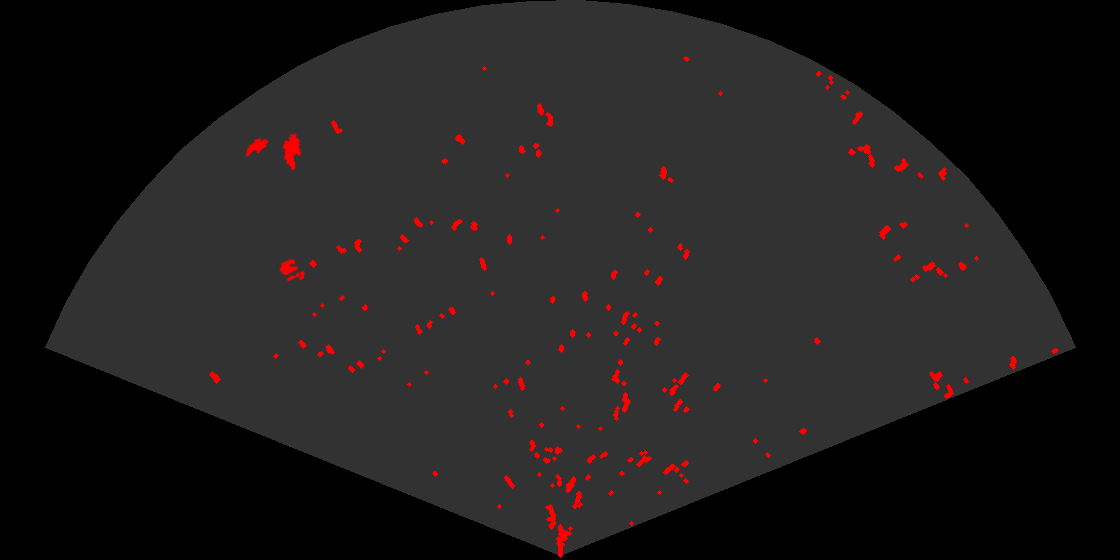AUV: (281, 131, 303, 172), (239, 132, 270, 158)
ball: (277, 257, 302, 283)
